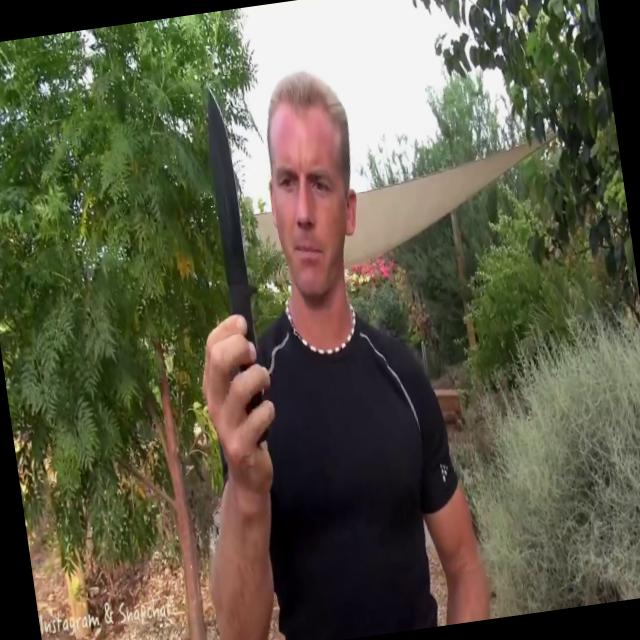knife: (188, 71, 280, 464)
